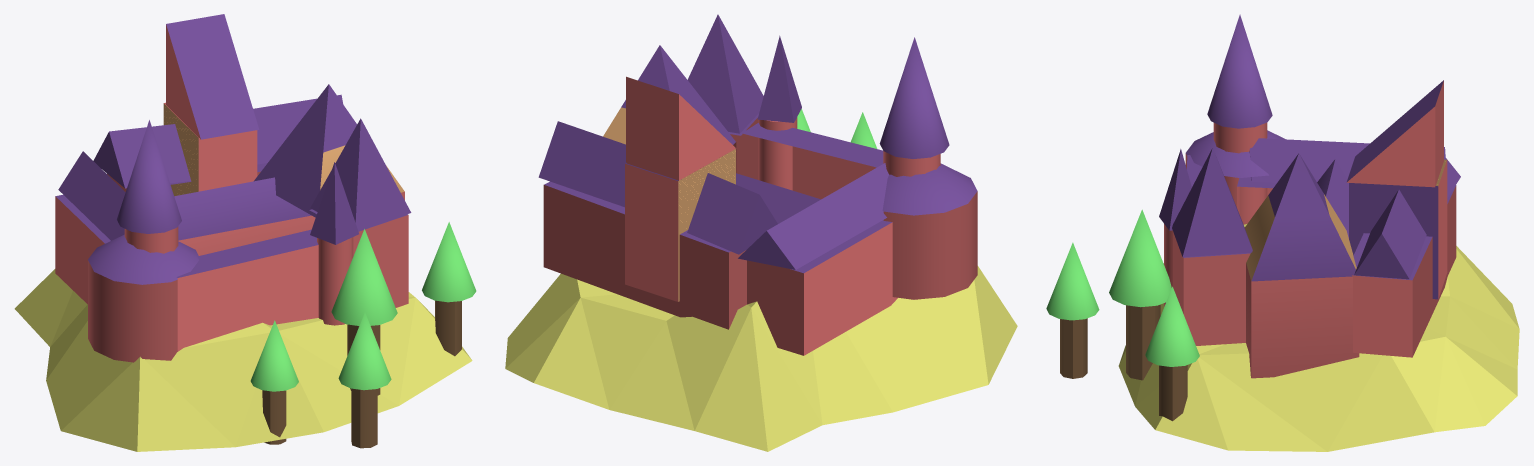
File: castle_bran.fbx
The picture shows the model from 3 angles, left to right: view 1: azimuth 30°, elevation 25°; view 2: azimuth 150°, elevation 25°; view 3: azimuth 270°, elevation 25°; orthographic projection. The views are drawn at different scales.
Visible parts, largest first — view 1: castle, Grid, Cone.002, Cone.001, Cone.003, Cone; view 2: castle, Grid; view 3: castle, Grid, Cone.002, Cone.001, Cone.003.
Part boxes in pixels (bbox=[...]): castle: bbox=[55, 14, 411, 362]; Grid: bbox=[14, 269, 472, 451]; Cone.002: bbox=[331, 229, 397, 395]; Cone.001: bbox=[338, 312, 391, 448]; Cone.003: bbox=[422, 222, 476, 356]; Cone: bbox=[250, 320, 298, 444]; castle: bbox=[538, 14, 977, 355]; Grid: bbox=[505, 266, 1017, 451]; castle: bbox=[1159, 14, 1460, 378]; Grid: bbox=[1118, 224, 1519, 451]; Cone.002: bbox=[1109, 209, 1171, 380]; Cone.001: bbox=[1046, 242, 1099, 378]; Cone.003: bbox=[1145, 286, 1199, 421].
Bounding box in the file's own units: 77.91 × 58.95 × 83.86.
